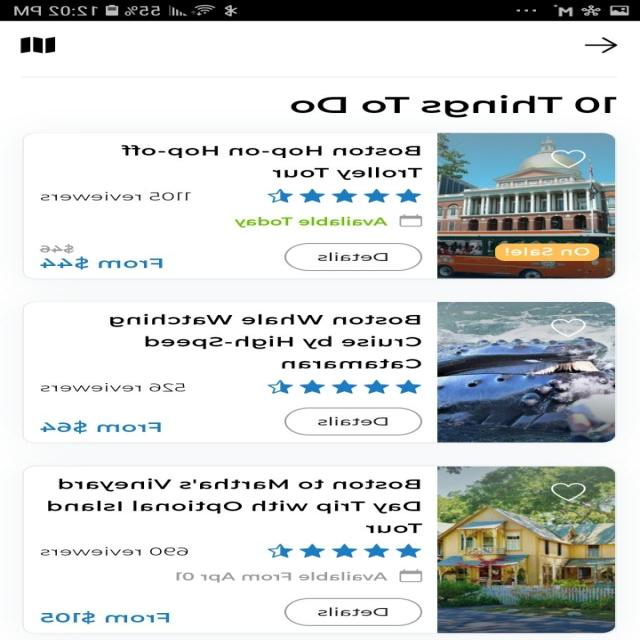Icon: (268, 543, 423, 558), (268, 379, 422, 394), (268, 188, 423, 202), (550, 482, 587, 501), (550, 149, 587, 168), (551, 318, 587, 336), (21, 36, 57, 54), (584, 37, 618, 54), (399, 568, 423, 582), (399, 213, 423, 227)
Image: (437, 466, 616, 632), (437, 133, 615, 279), (437, 302, 616, 442)
Text: (48, 478, 424, 533), (111, 314, 422, 368), (122, 144, 424, 180), (291, 95, 617, 118), (176, 571, 388, 582), (234, 216, 388, 228), (41, 610, 170, 623), (41, 256, 163, 269), (41, 420, 162, 433), (40, 546, 190, 556), (41, 382, 188, 392), (41, 192, 192, 201), (40, 244, 76, 254)
TextButton: (285, 406, 423, 436), (285, 242, 423, 271), (284, 598, 424, 626), (495, 243, 600, 261)
